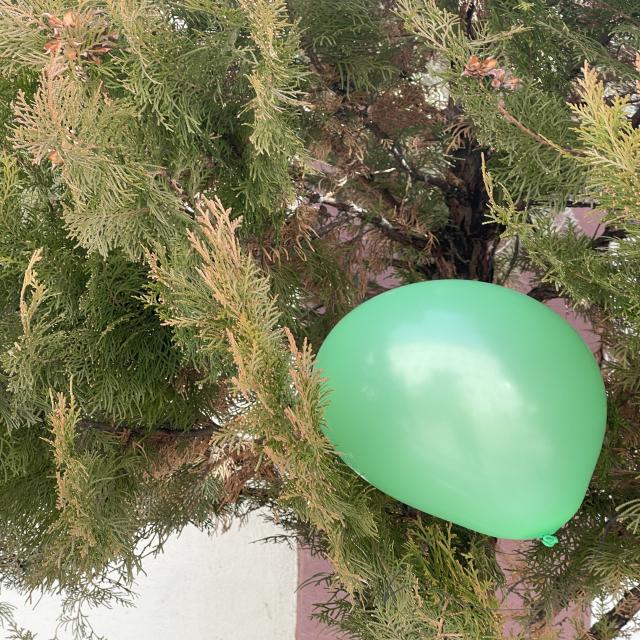balloon: (317, 279, 606, 539), (392, 382, 394, 385), (484, 401, 486, 404)
